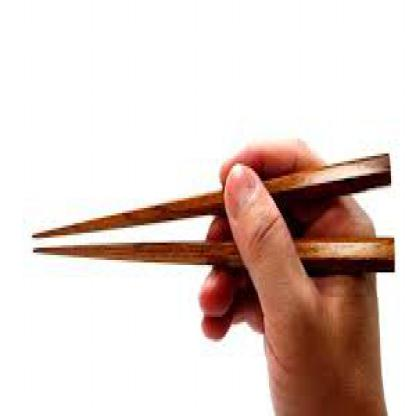chopstick: (30, 149, 394, 240), (29, 233, 395, 265)
